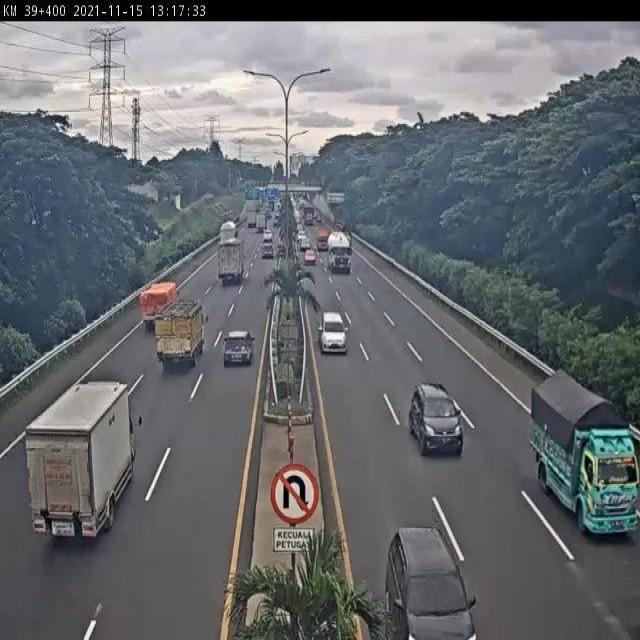car: (408, 378, 465, 454), (318, 311, 349, 356), (221, 327, 255, 368)
truck-l-: (325, 228, 353, 277)
truck-m-: (529, 361, 640, 544), (28, 379, 137, 545), (155, 300, 206, 369), (138, 280, 181, 331), (214, 236, 248, 289)
